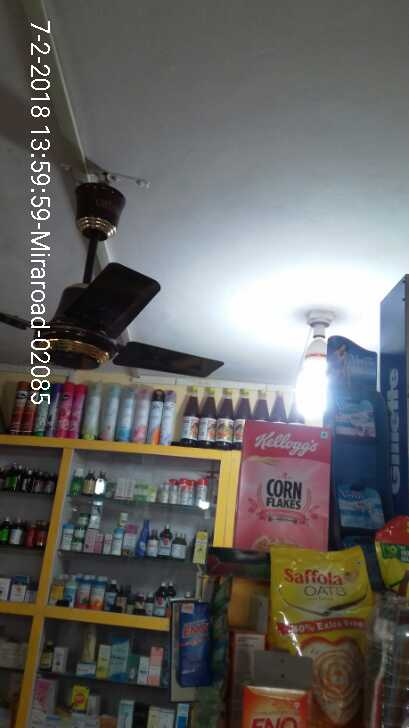venus: (339, 484, 383, 531), (336, 395, 374, 438)
